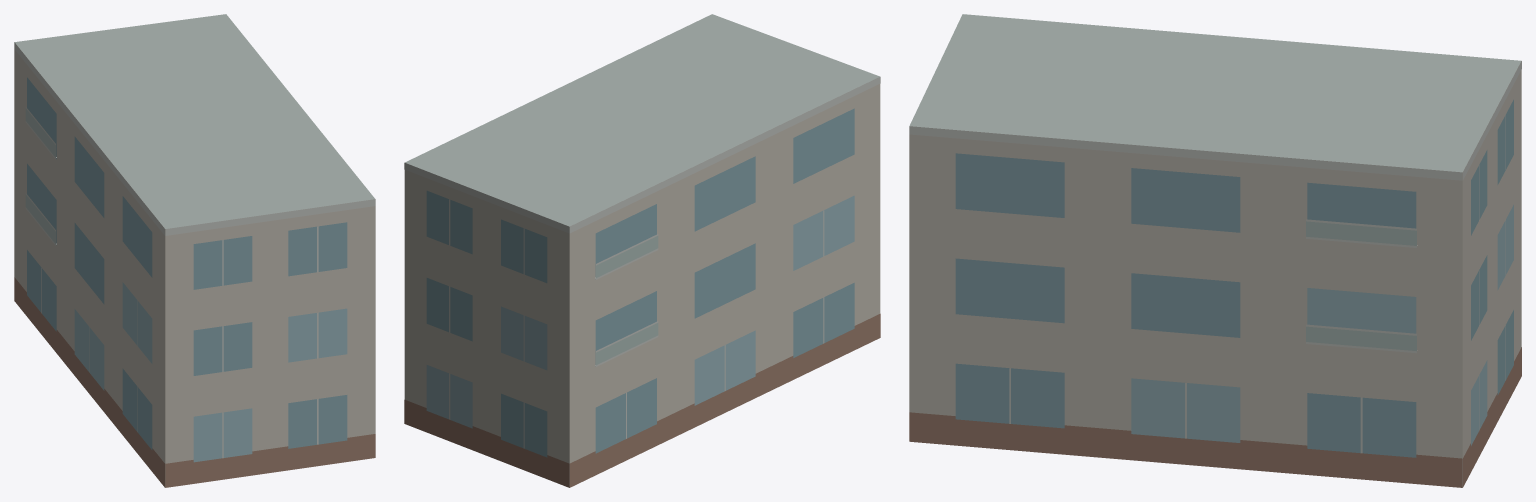
The model's file is survey-upis-32830687.glb.
3 views of the same model, side by side, from view 1: azimuth 30°, elevation 25°; view 2: azimuth 150°, elevation 25°; view 3: azimuth 270°, elevation 25° (orthographic). The views are drawn at different scales.
Parts seen in each view (by area): view 1: survey-upis-32830687.tmp; view 2: survey-upis-32830687.tmp; view 3: survey-upis-32830687.tmp.
Part boxes in pixels (<box>): survey-upis-32830687.tmp: <box>14,14,375,487</box>; survey-upis-32830687.tmp: <box>404,14,880,487</box>; survey-upis-32830687.tmp: <box>909,14,1521,487</box>.
Size of the model in its own units: 9.86 by 9.15 by 16.11.
